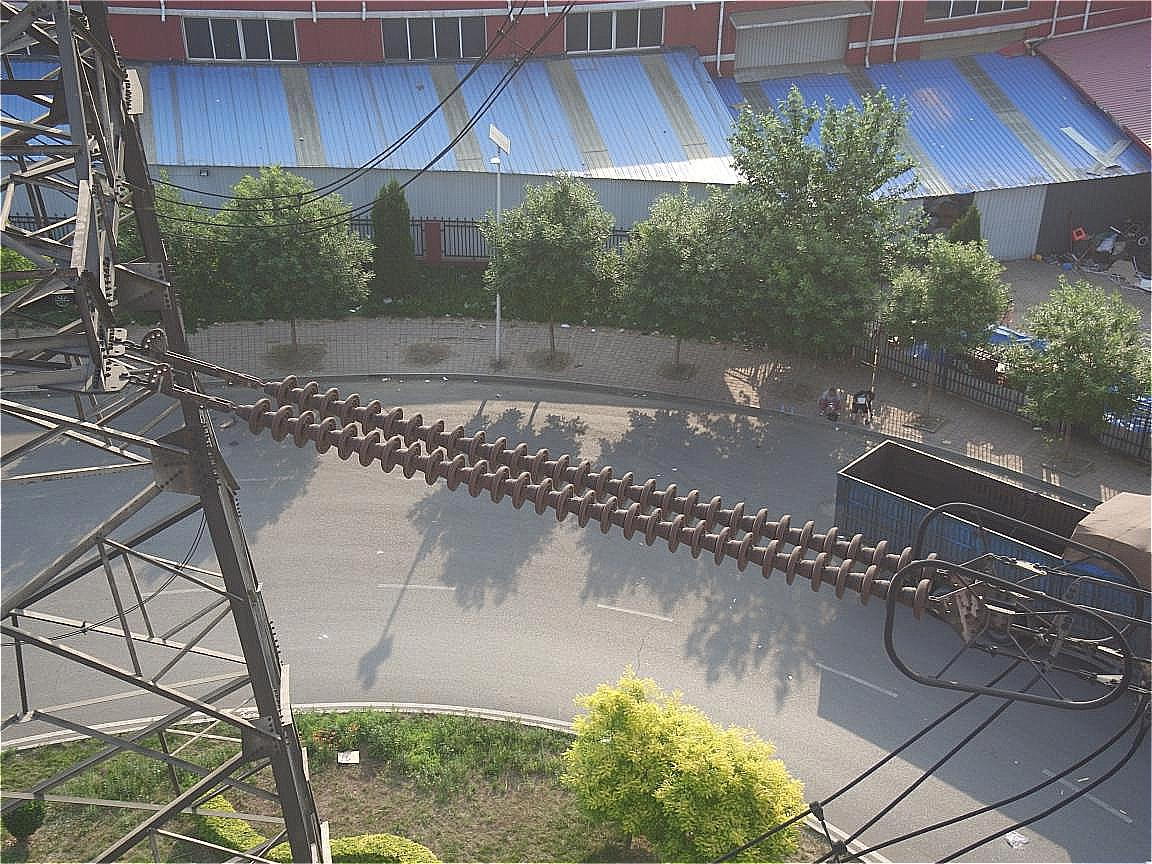insultor1: (197, 366, 969, 622)
